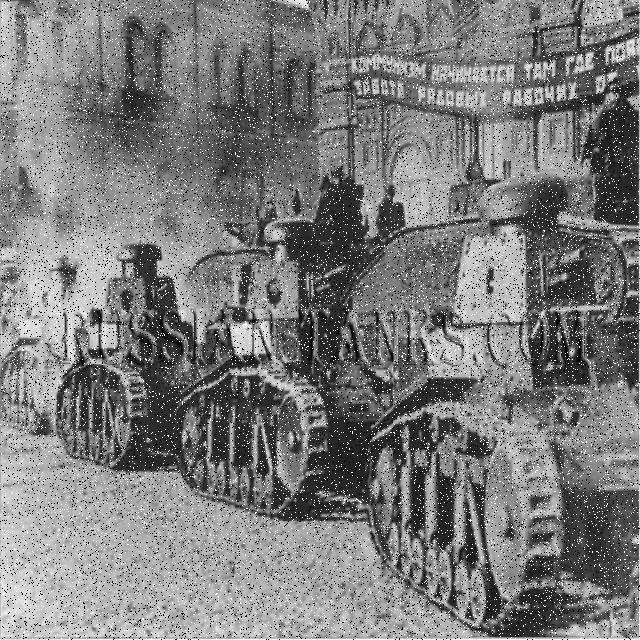MIL_MBT: (394, 198, 621, 621), (172, 224, 350, 528), (64, 250, 180, 486), (1, 280, 60, 450)
